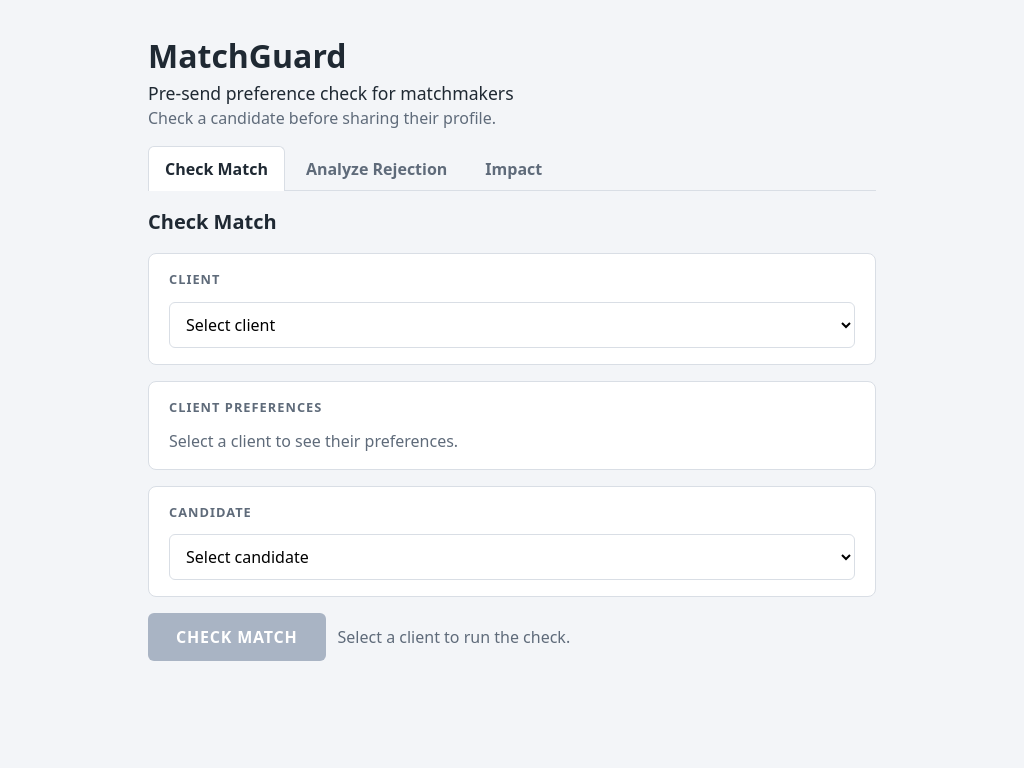
Test: Analyze Rejection mode › renders both tabs and switches to the feedback screen
Click the tab "Analyze Rejection". click: (377, 169)
box: [289,146,464,191]
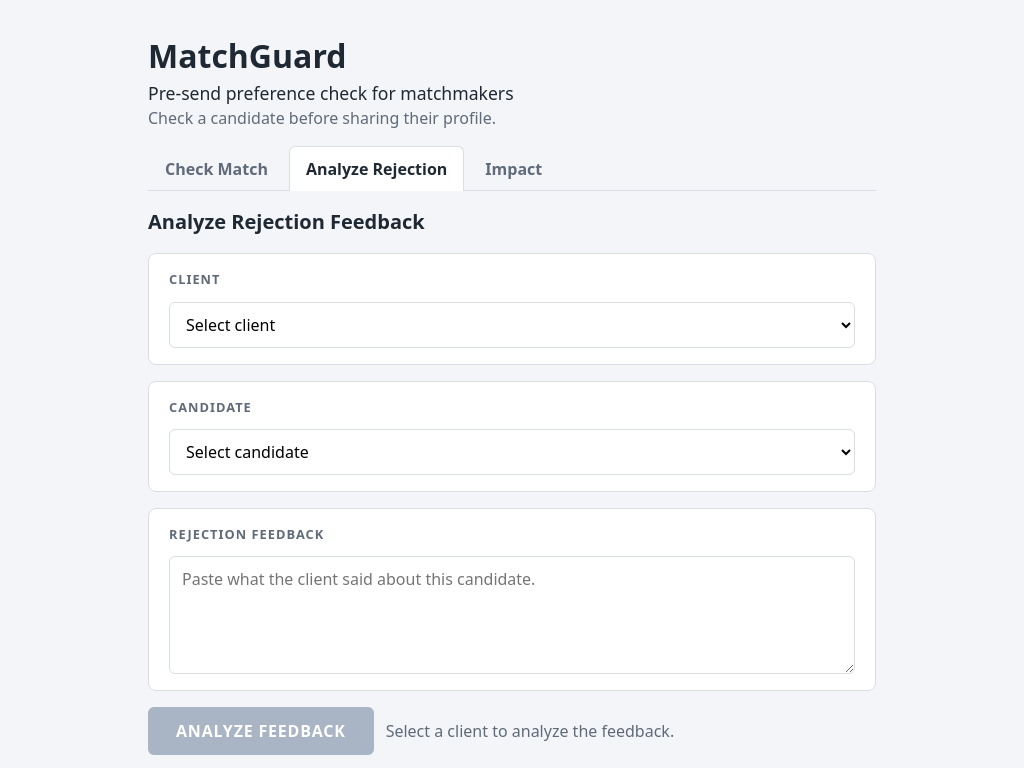
expect the heading "Analyze Rejection Feedback" is shown: met, box [148,208,425,235]
expect the text box labelled "Rejection feedback" is shown: met, box [169,556,855,674]
